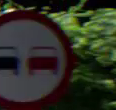No overtake: (0, 8, 71, 103)
